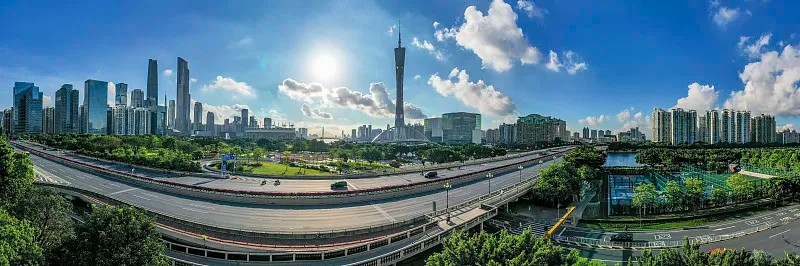Canton: (392, 20, 408, 143)
